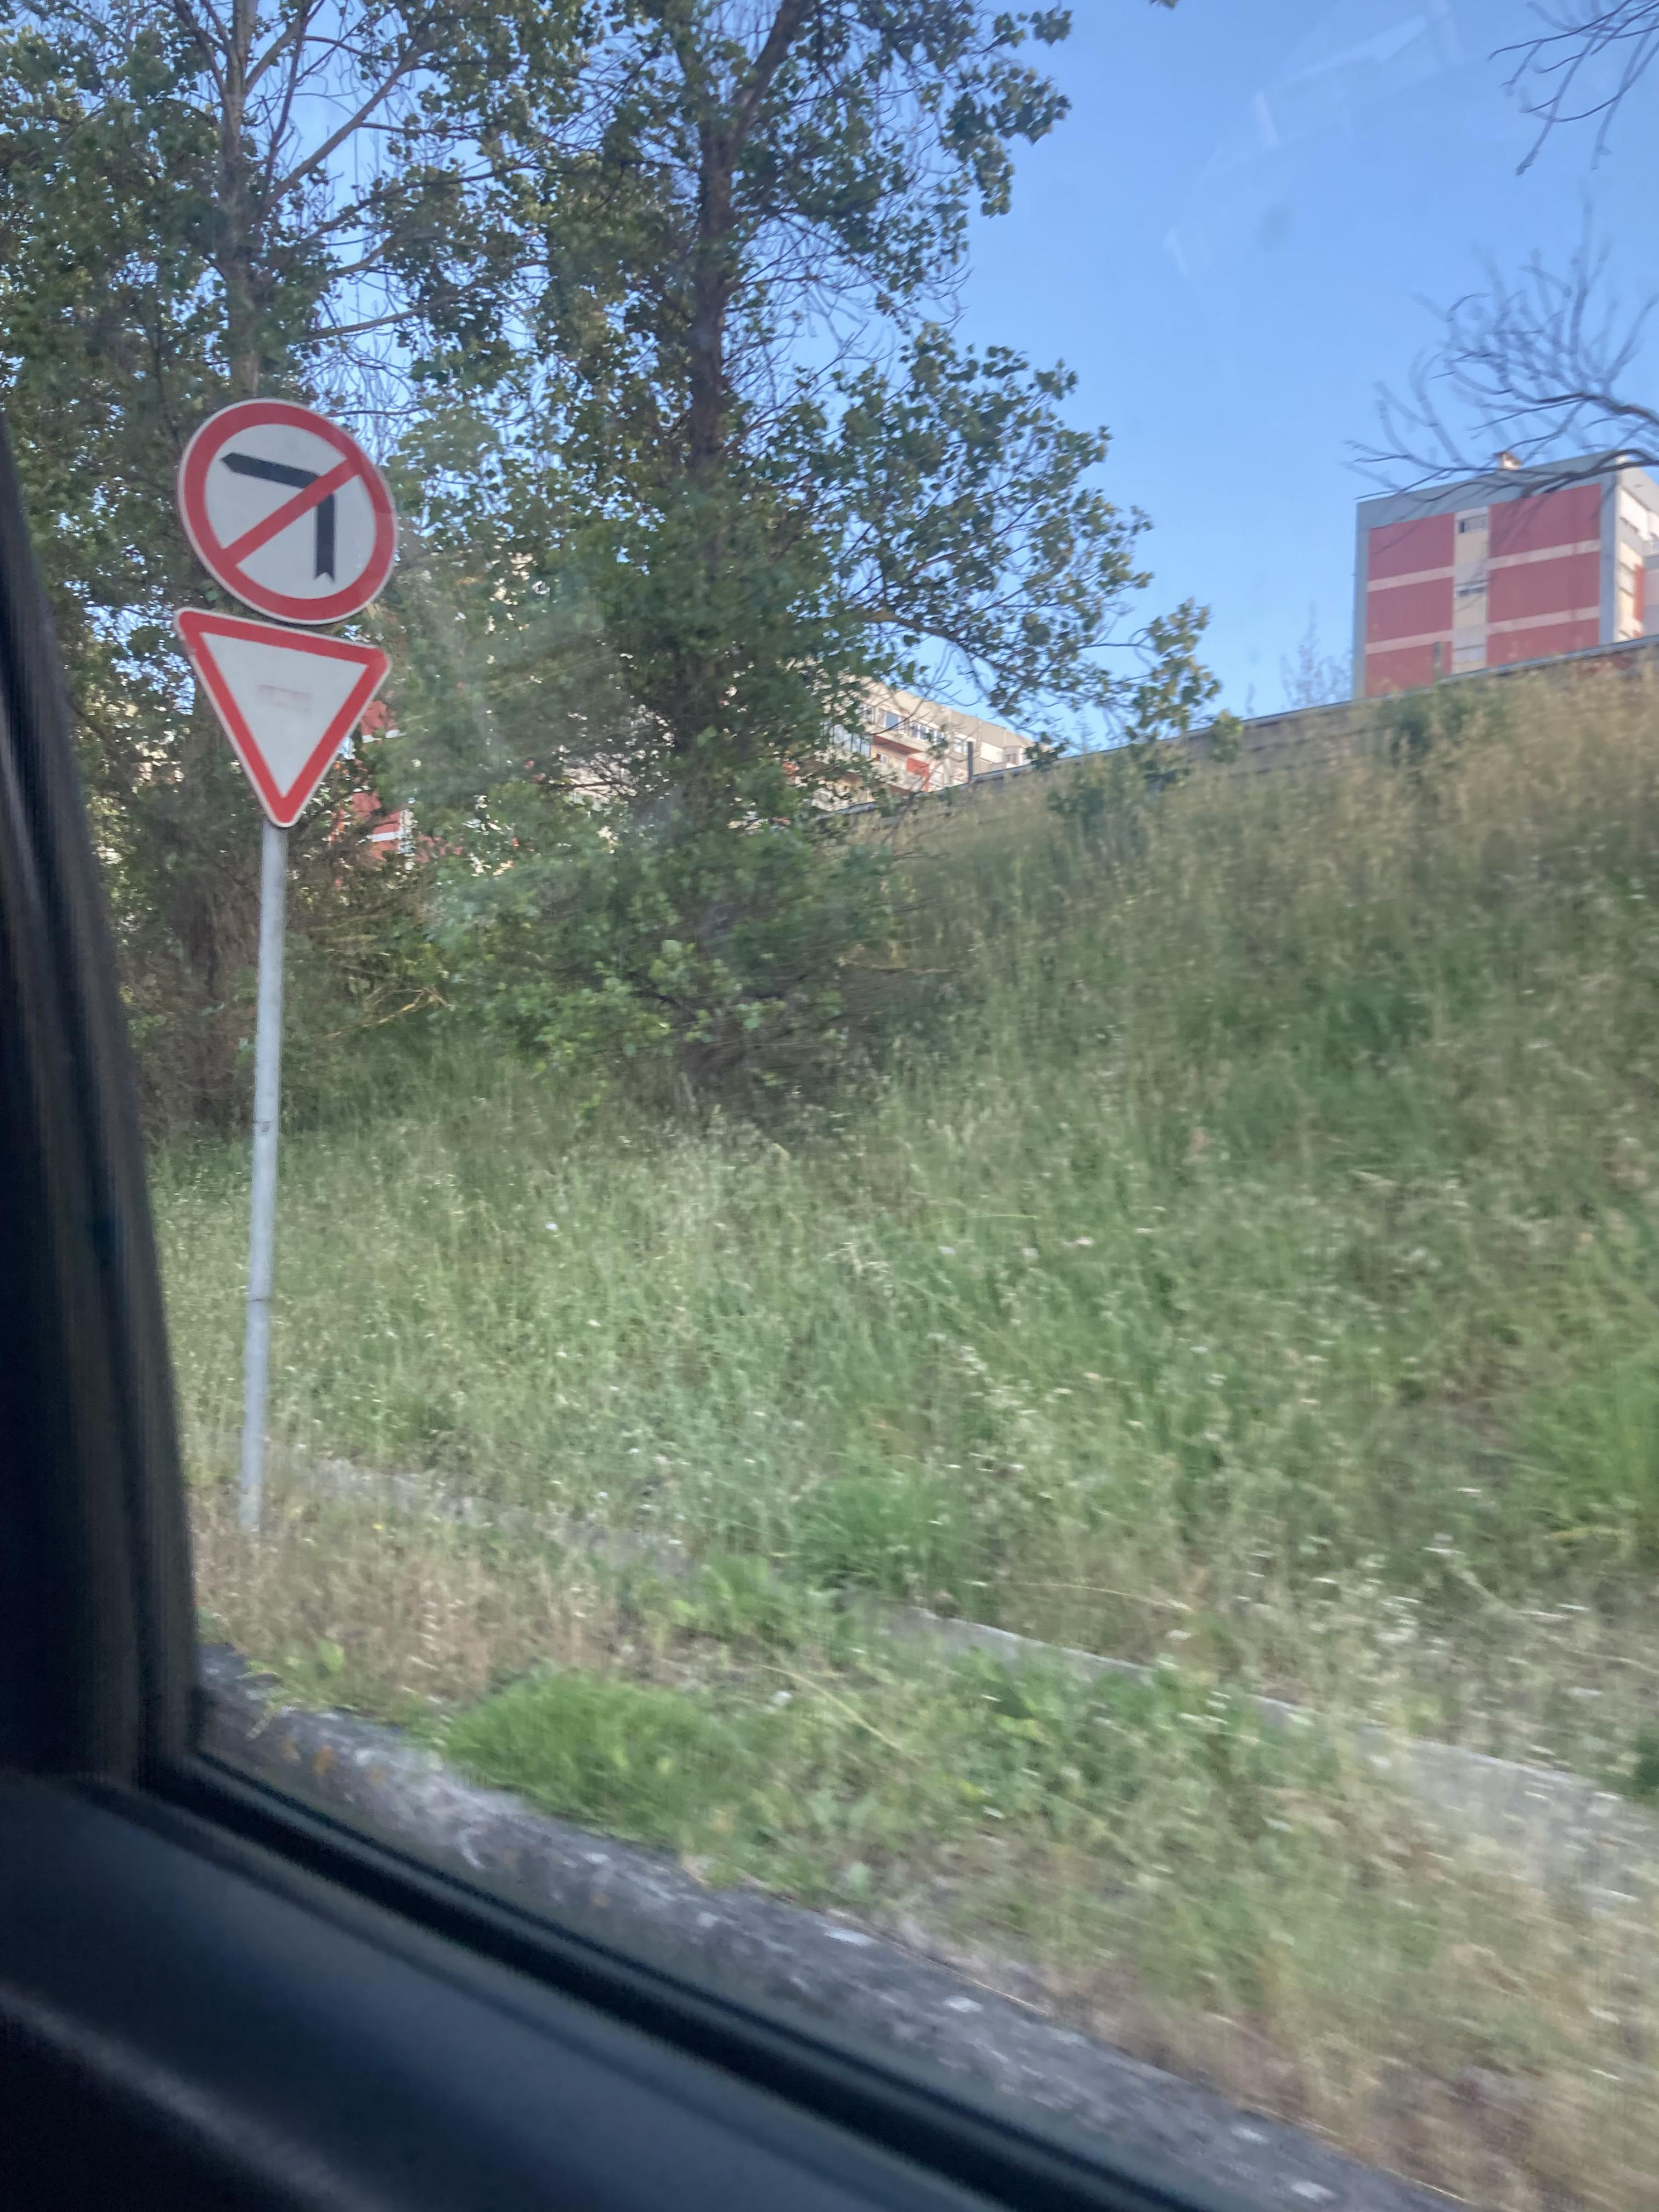cedencia de passagem: (197, 643, 383, 796)
proibicao de virar a esquerda: (192, 390, 396, 620)
